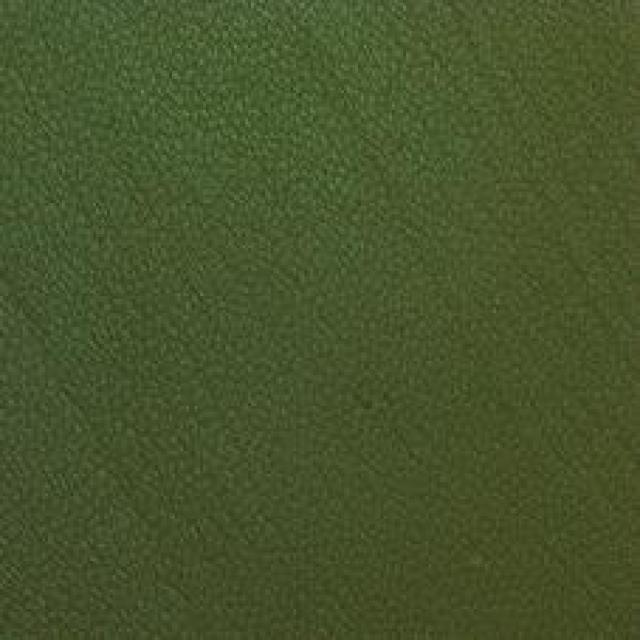Growth Marks: (15, 280, 194, 545), (468, 8, 603, 230), (316, 42, 445, 230)
